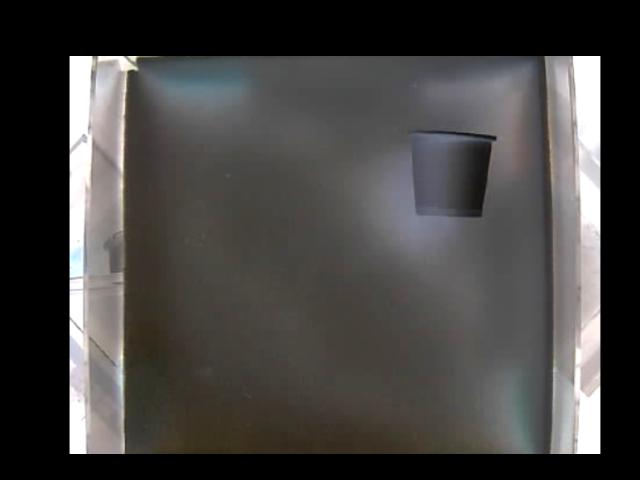Cup: (408, 128, 497, 218)
